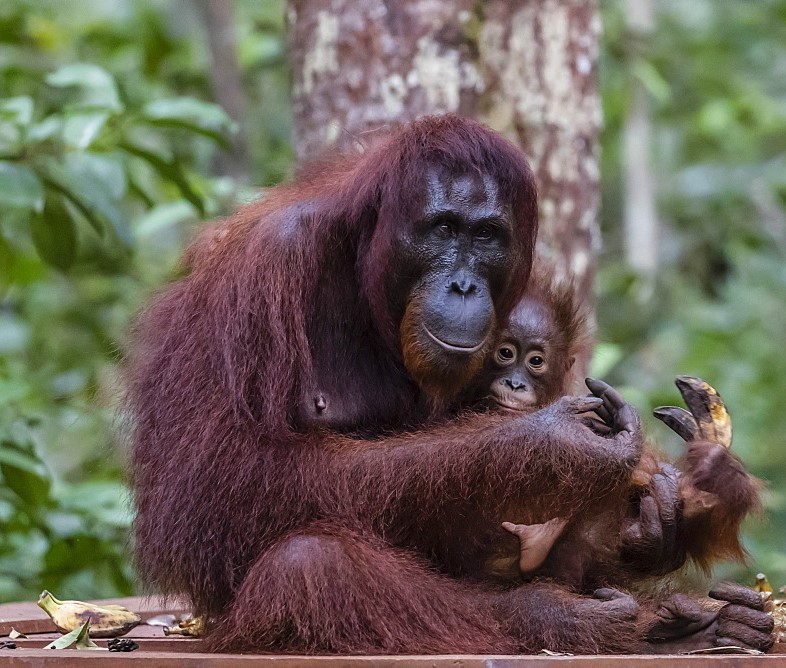Orangutan: (129, 118, 740, 639), (486, 297, 581, 411)
